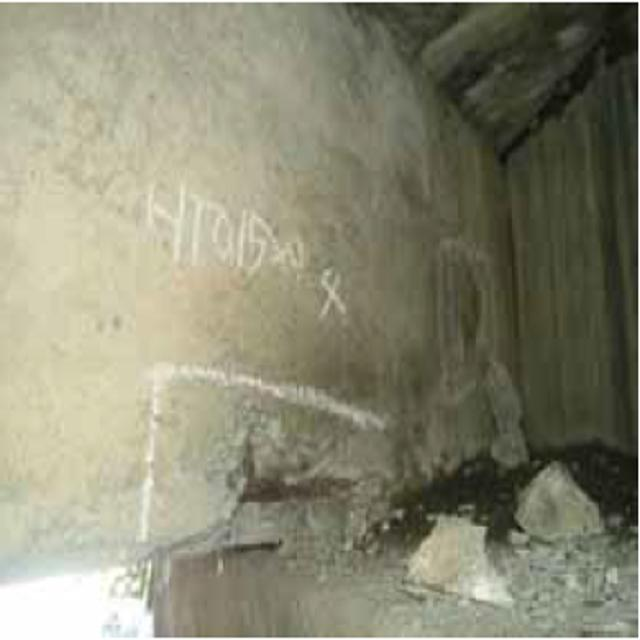spalling: (152, 381, 404, 553)
